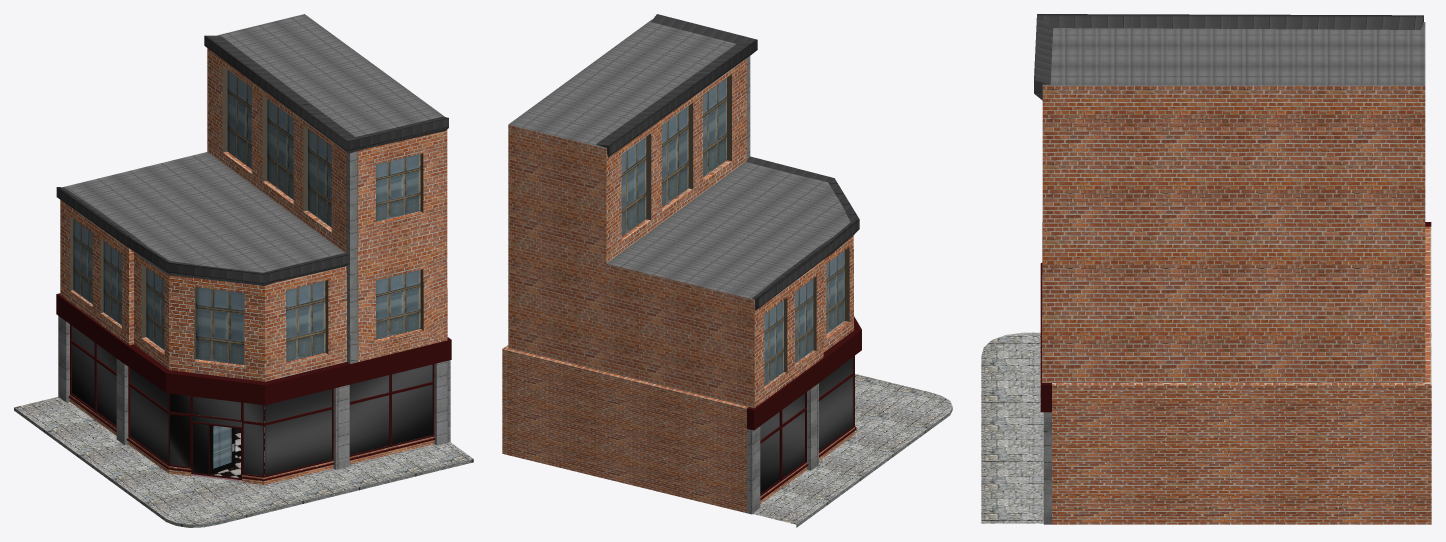
The model's file is Interior Building.FBX.
3 renders of one model, left to right at view 1: azimuth 30°, elevation 25°; view 2: azimuth 150°, elevation 25°; view 3: azimuth 270°, elevation 25°, orthographic. The views are drawn at different scales.
Parts seen in each view (by area): view 1: BuildingTop_TextureMap2_0, Windows_01 - Default_0, Street_Pavement_0, Building_PVCBLACK_0, BuildingTop_rooftile_0, Building_Blcoks_0, Building_Brick_0, Street_Curb_0, FrontDoor_TextureMap1_0; view 2: BuildingTop_TextureMap2_0, BuildingTop_Brick_0, Building_Brick_0, Street_Pavement_0, BuildingTop_rooftile_0, Windows_01 - Default_0, Building_PVCBLACK_0, Building_Blcoks_0, Street_Curb_0; view 3: BuildingTop_Brick_0, Building_Brick_0, BuildingTop_TextureMap2_0, Street_Pavement_0, BuildingTop_rooftile_0, Building_Blcoks_0, Building_PVCBLACK_0.
Boxes of the visible parts, <box> form: BuildingTop_TextureMap2_0: <box>60,14,447,381</box>; Windows_01 - Default_0: <box>72,326,432,475</box>; Street_Pavement_0: <box>14,397,473,524</box>; Building_PVCBLACK_0: <box>56,293,451,480</box>; BuildingTop_rooftile_0: <box>56,35,448,285</box>; Building_Blcoks_0: <box>58,316,450,469</box>; Building_Brick_0: <box>70,394,434,484</box>; Street_Curb_0: <box>14,407,473,527</box>; FrontDoor_TextureMap1_0: <box>210,425,235,474</box>; BuildingTop_TextureMap2_0: <box>508,19,853,407</box>; BuildingTop_Brick_0: <box>508,125,754,408</box>; Building_Brick_0: <box>502,345,854,513</box>; Street_Pavement_0: <box>752,374,952,524</box>; BuildingTop_rooftile_0: <box>596,14,859,310</box>; Windows_01 - Default_0: <box>760,357,853,493</box>; Building_PVCBLACK_0: <box>747,316,861,500</box>; Building_Blcoks_0: <box>747,383,818,514</box>; Street_Curb_0: <box>796,407,952,527</box>; BuildingTop_Brick_0: <box>1042,85,1425,382</box>; Building_Brick_0: <box>1052,226,1431,524</box>; BuildingTop_TextureMap2_0: <box>1042,22,1425,338</box>; Street_Pavement_0: <box>981,332,1431,523</box>; BuildingTop_rooftile_0: <box>1034,14,1423,100</box>; Building_Blcoks_0: <box>1043,412,1051,524</box>; Building_PVCBLACK_0: <box>1040,222,1431,412</box>.
Bounding box in the file's own units: 9.74 × 10.58 × 9.7.
14 materials, 14 textured.
